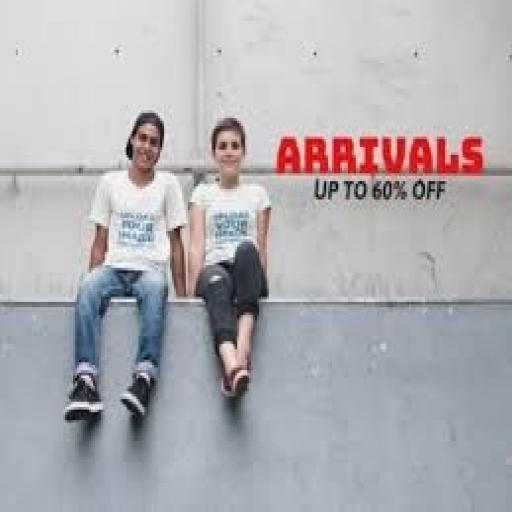sitting: (61, 108, 188, 422), (186, 113, 273, 399)
